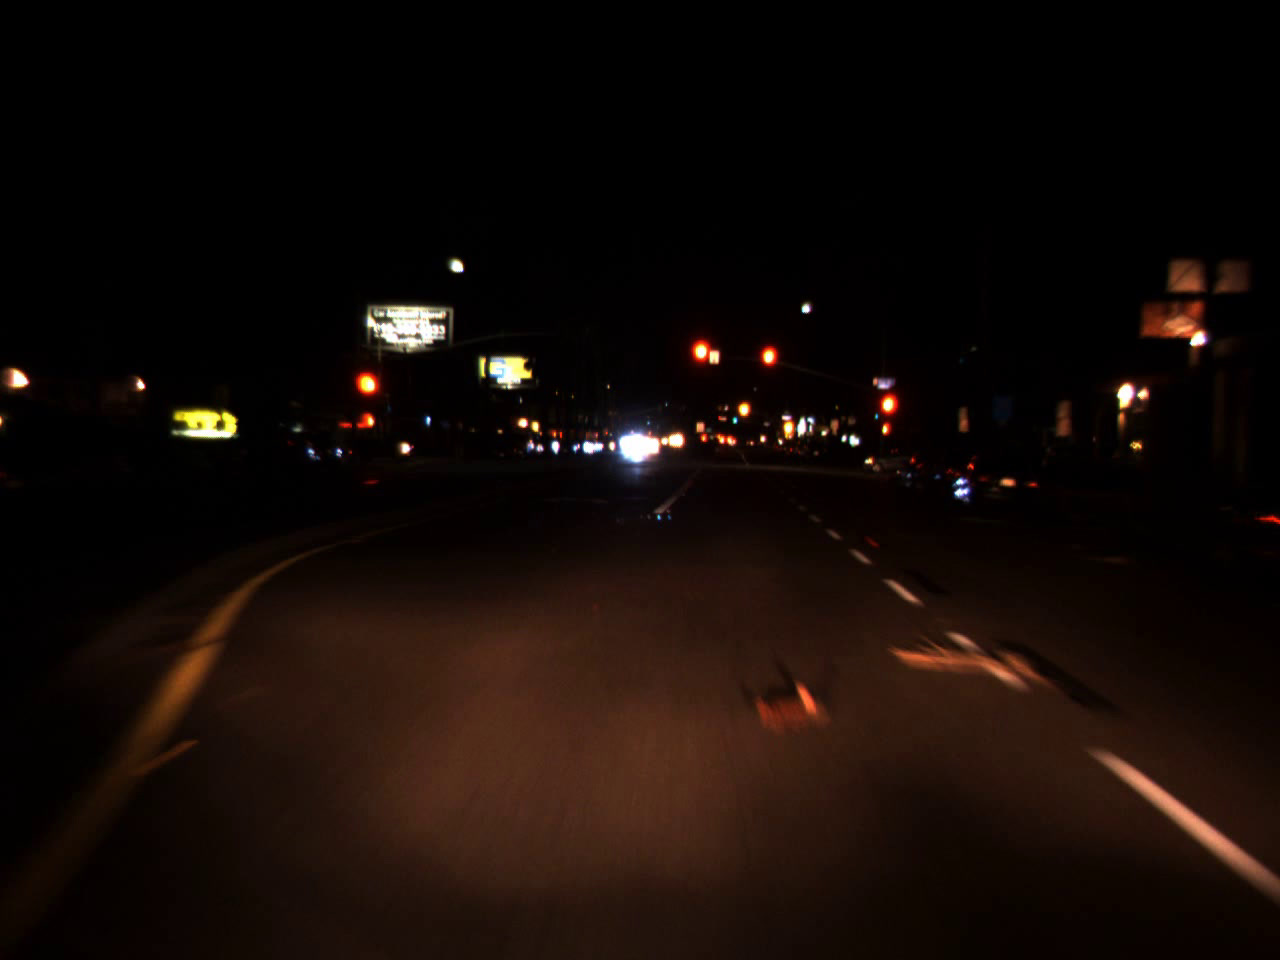go: (731, 409, 738, 424)
stop: (351, 367, 382, 423), (688, 335, 716, 391), (877, 389, 901, 443), (758, 343, 779, 391)
warning: (735, 390, 753, 427), (782, 414, 797, 439)
